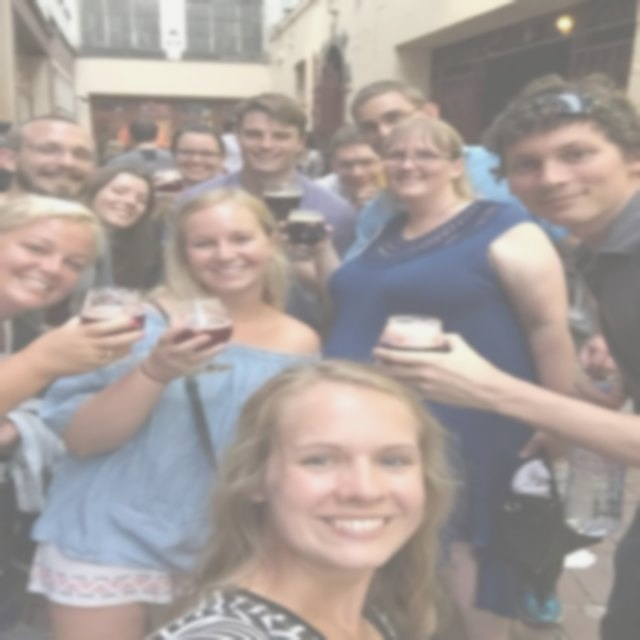pessoa: (365, 72, 639, 639), (28, 176, 335, 639), (321, 114, 575, 612), (140, 354, 458, 640), (340, 79, 621, 381), (1, 190, 145, 424), (165, 90, 358, 258), (81, 164, 158, 289), (0, 110, 96, 204), (313, 121, 387, 212), (154, 125, 228, 197), (104, 116, 182, 173), (90, 132, 134, 170), (218, 120, 243, 174)
